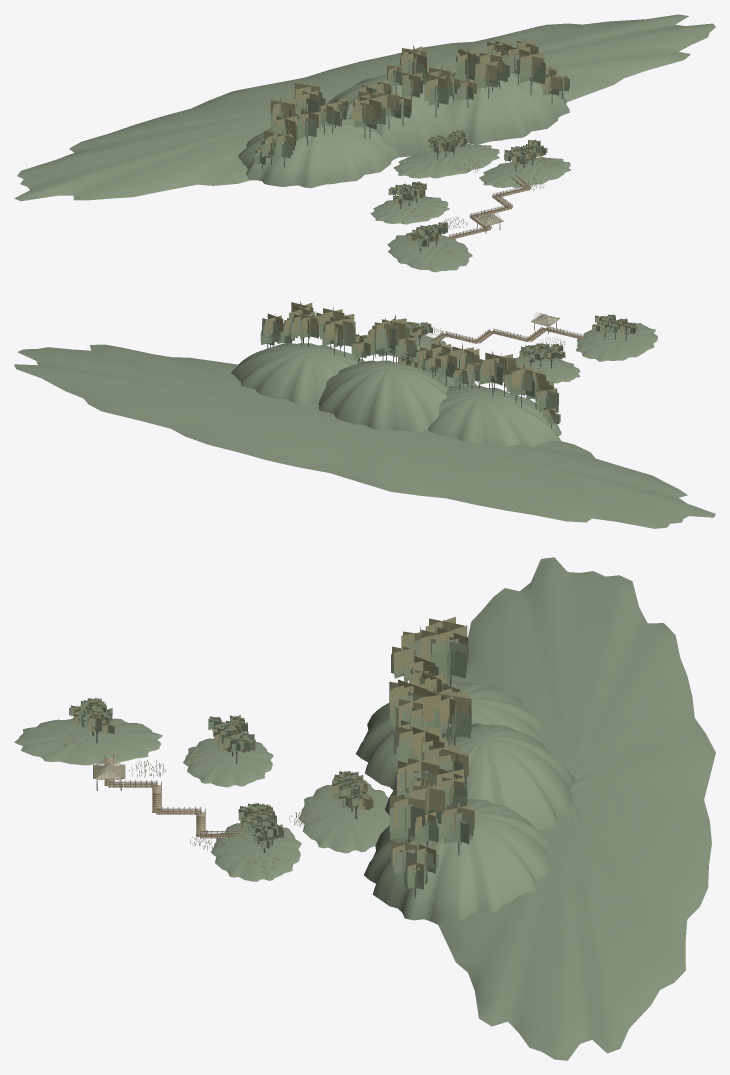
Rendered from santai.glb.
3 views of the same model, one above another, from view 1: azimuth 30°, elevation 25°; view 2: azimuth 150°, elevation 25°; view 3: azimuth 270°, elevation 25° (orthographic). The views are drawn at different scales.
Parts seen in each view (by area): view 1: earth, crown2, crown1, crown0, wood, thatch, woodlight, bark; view 2: earth, crown2, crown0, crown1, wood, woodlight, bark; view 3: earth, crown2, crown1, crown0, thatch, woodlight, wood.
Boxes of the visible parts, x1,y1,x2,y2 form: earth: (14, 14, 715, 272); crown2: (257, 39, 567, 246); crown1: (255, 43, 569, 245); crown0: (254, 51, 568, 247); wood: (449, 175, 530, 238); thatch: (408, 157, 557, 254); woodlight: (449, 181, 530, 239); bark: (261, 74, 562, 250); earth: (14, 323, 715, 528); crown2: (263, 301, 635, 419); crown0: (261, 314, 636, 424); crown1: (260, 311, 634, 422); wood: (427, 322, 584, 343); woodlight: (434, 328, 583, 343); bark: (267, 329, 626, 428); earth: (14, 557, 715, 1060); crown2: (73, 617, 474, 879); crown1: (71, 629, 473, 886); crown0: (69, 649, 472, 889); thatch: (58, 733, 326, 870); woodlight: (104, 758, 232, 838); wood: (96, 755, 245, 837).
Size of the model in its own units: 299 by 34.23 by 176.
